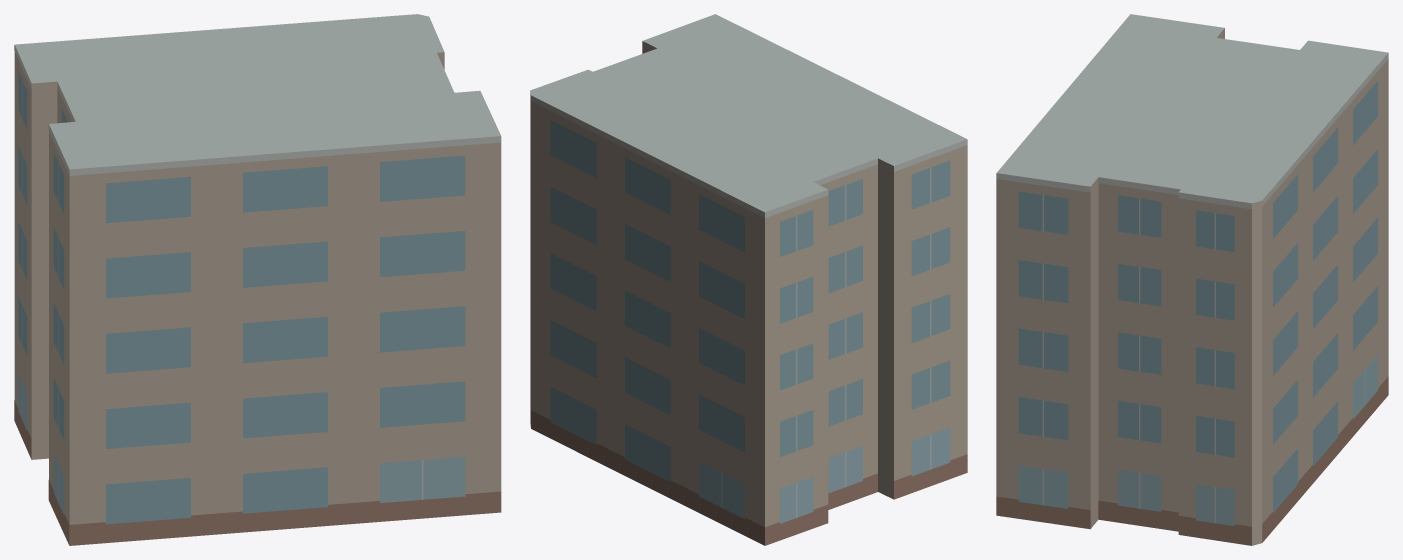
Rendered from survey-upis-32873665.glb.
The picture shows the model from 3 angles, left to right: view 1: azimuth 30°, elevation 25°; view 2: azimuth 150°, elevation 25°; view 3: azimuth 270°, elevation 25°; orthographic projection. The views are drawn at different scales.
Visible parts, largest first — view 1: survey-upis-32873665.tmp; view 2: survey-upis-32873665.tmp; view 3: survey-upis-32873665.tmp.
Boxes of the visible parts, x1=… form: survey-upis-32873665.tmp: x1=14, y1=14, x2=501, y2=545; survey-upis-32873665.tmp: x1=530, y1=14, x2=967, y2=545; survey-upis-32873665.tmp: x1=996, y1=14, x2=1388, y2=545.
Size of the model in its own units: 16.73 by 14.1 by 14.64.
